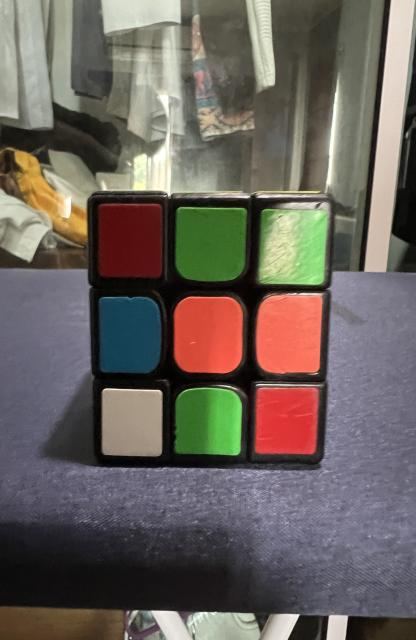Blue: (99, 296, 161, 374)
Green: (176, 206, 247, 281), (258, 209, 327, 285), (174, 388, 242, 455)
Orange: (173, 296, 244, 374), (256, 295, 323, 374)
Red: (99, 204, 162, 279), (255, 388, 318, 455)
White: (102, 389, 162, 456)
